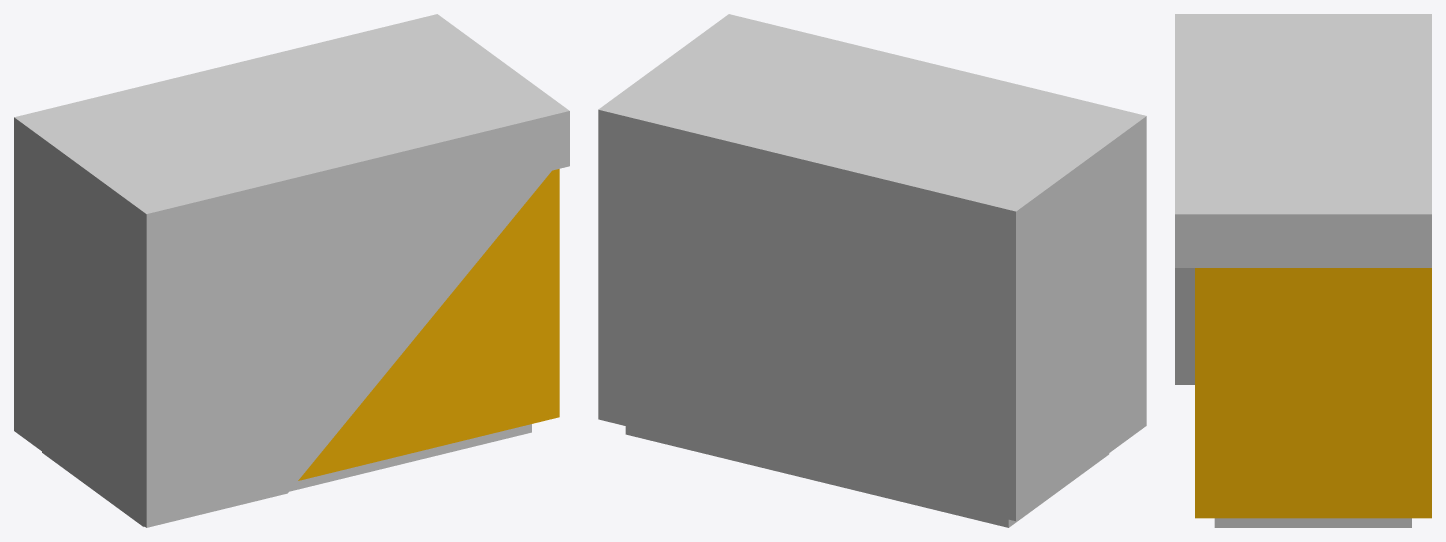
The model's file is counter-set-02-06.glb.
3 views of the same model, side by side, from view 1: azimuth 30°, elevation 25°; view 2: azimuth 150°, elevation 25°; view 3: azimuth 270°, elevation 25° (orthographic). The views are drawn at different scales.
Visible parts, largest first — view 1: 3DGeom-1, 3DGeom-2; view 2: 3DGeom-1; view 3: 3DGeom-1, 3DGeom-2.
Boxes of the visible parts, box(x1,y1,x2,y2) form: 3DGeom-1: box(14, 14, 569, 527); 3DGeom-2: box(298, 169, 559, 480); 3DGeom-1: box(598, 14, 1146, 527); 3DGeom-1: box(1175, 14, 1431, 527); 3DGeom-2: box(1195, 268, 1431, 518).
Bounding box in the file's own units: 1.2 × 0.9 × 0.65.
